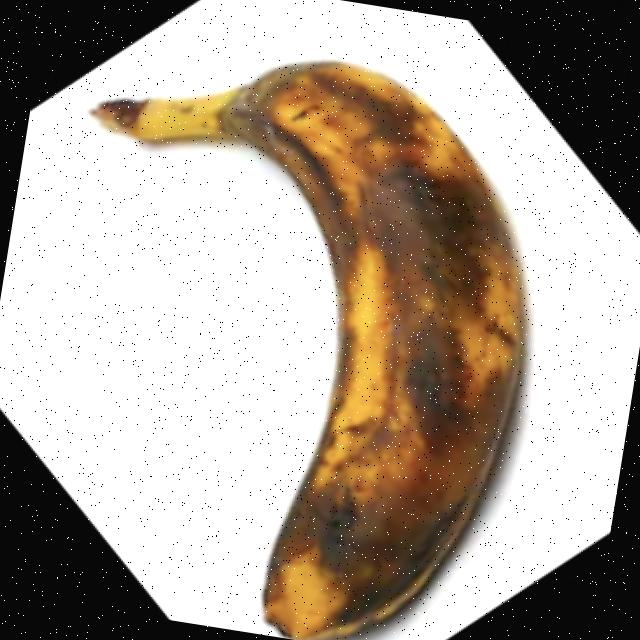overripe: (16, 17, 569, 640)
